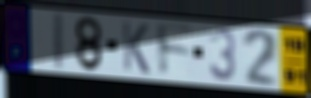2: (241, 27, 281, 89)
3: (206, 26, 237, 84)
8: (73, 15, 103, 73)
F: (154, 20, 197, 79)
I: (52, 10, 67, 72)
K: (120, 19, 151, 76)
